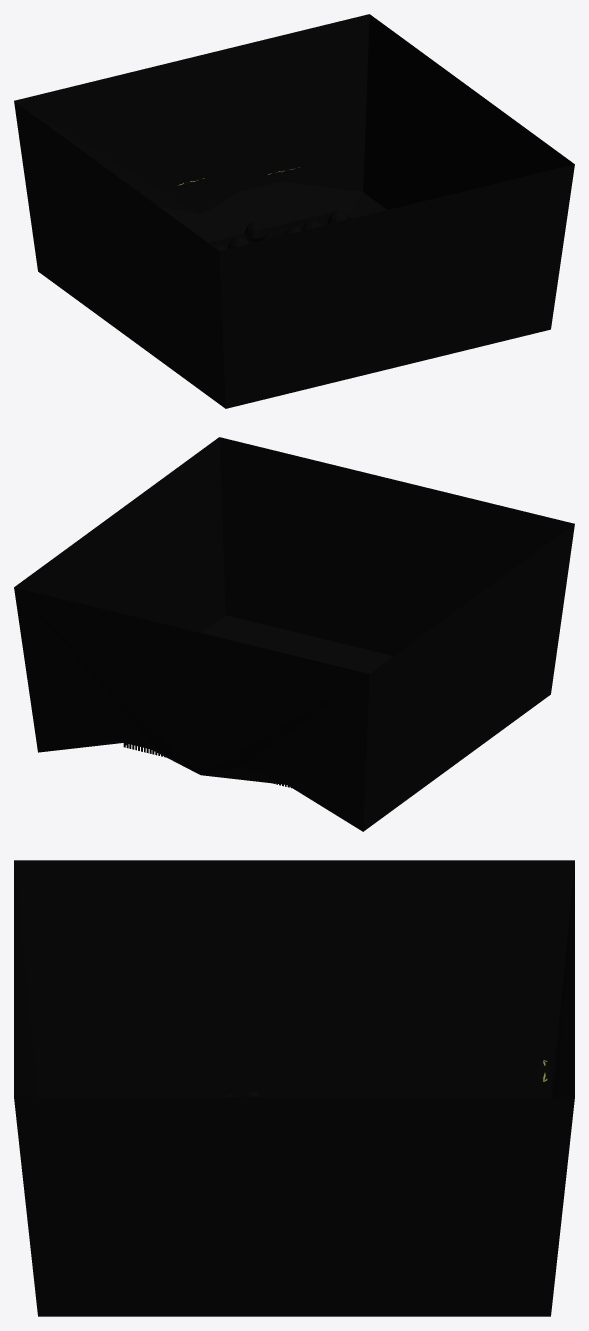
File: art2.obj
The picture shows the model from 3 angles, top to bottom: view 1: azimuth 30°, elevation 25°; view 2: azimuth 150°, elevation 25°; view 3: azimuth 270°, elevation 25°; orthographic projection. The views are drawn at different scales.
Visible parts, largest first — view 1: Cube_ground; view 2: Cube_ground; view 3: Cube_ground.
Part boxes in pixels (x1,y1,x2,y2): Cube_ground: [14, 14, 574, 408]; Cube_ground: [14, 437, 574, 831]; Cube_ground: [14, 860, 574, 1316].
Size of the model in its own units: 247 by 114 by 247.
